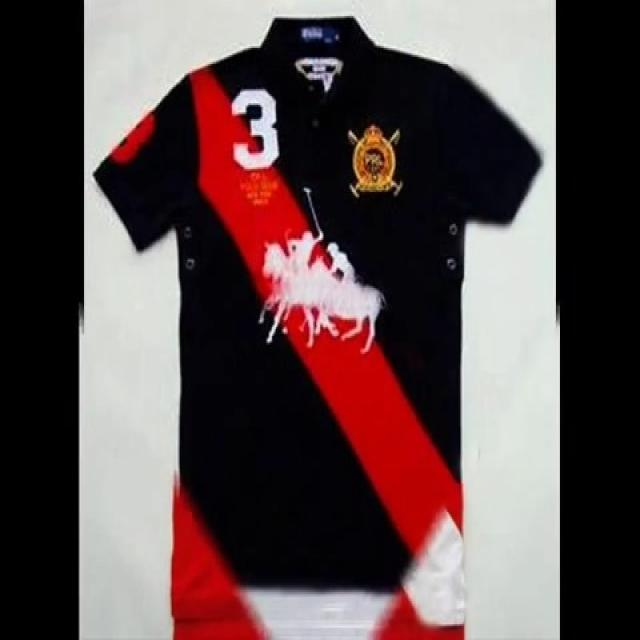Shirt: (92, 12, 545, 640)
